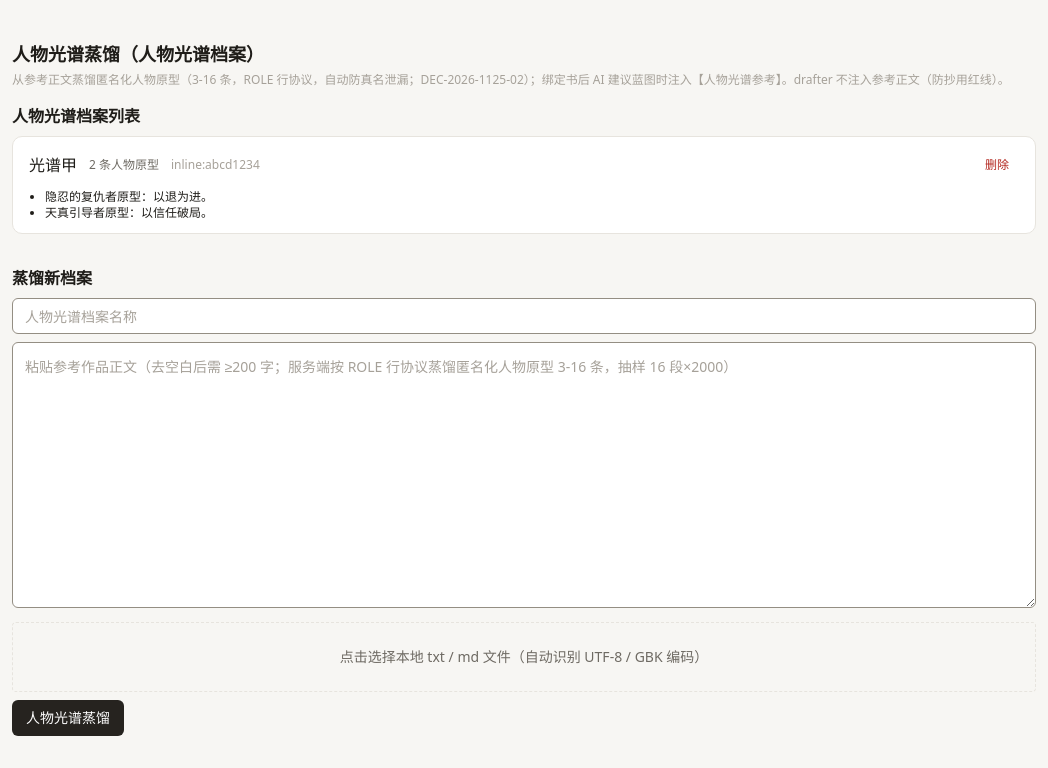
SpectrumProfilesSection（DEC-2026-1120-09） › 列表渲染档案名/原型行/sourcePath；删除升 L2：取消收簇且未发 DELETE
The width and height of the screenshot is (1048, 768).
Expected: the text "光谱甲" is shown, [29,153,77,177]
Expected: the list item "隐忍的复仇者原型：以退为进。" is shown, [45,188,213,205]
What coordinates should you click on to do the following:
click the button "删除"
I would click on:
 (997, 165)
Its box is [975,149,1019,181].
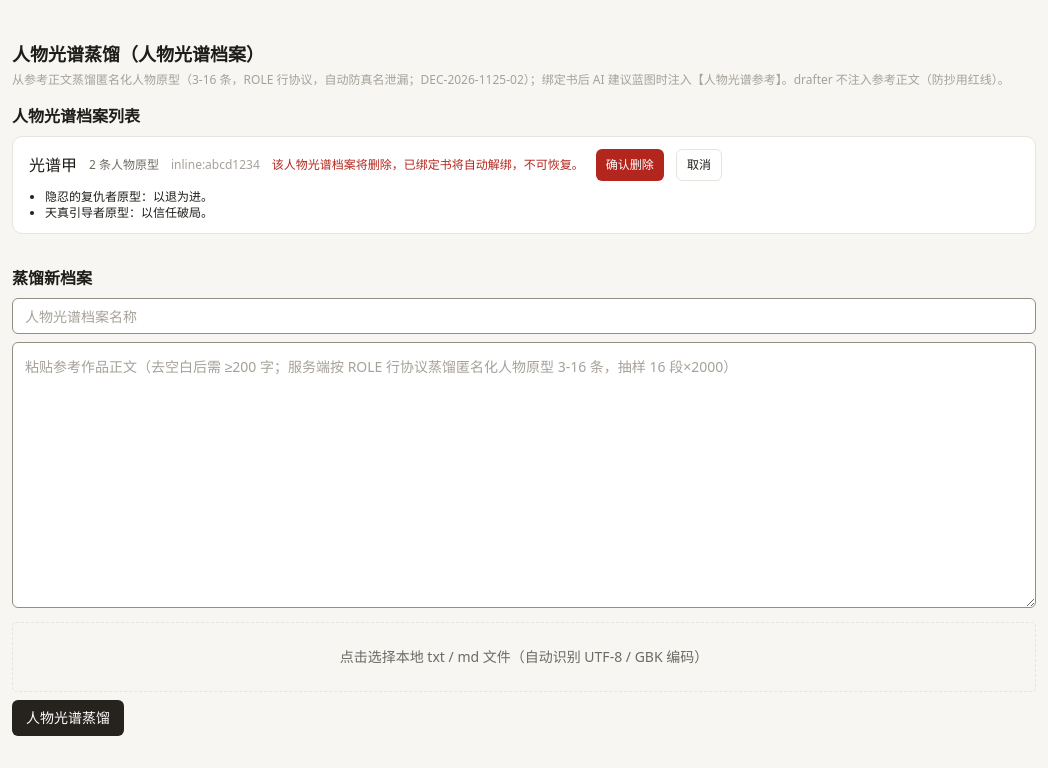
Now the text "该人物光谱档案将删除，已绑定书将自动解绑，不可恢复。" is shown, box [272,157,584,173]
What coordinates should you click on to do the following:
click the button "取消"
I would click on:
 (699, 165)
Its box is [676,149,722,181].
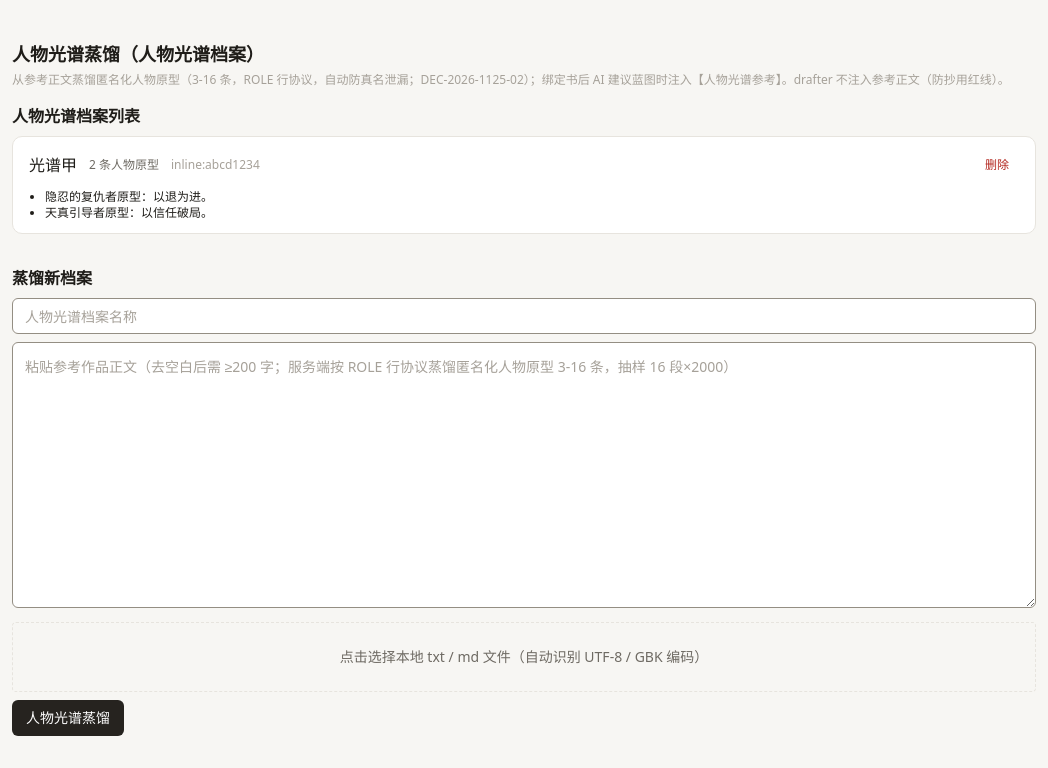
Now the text "该人物光谱档案将删除，已绑定书将自动解绑" is gone
